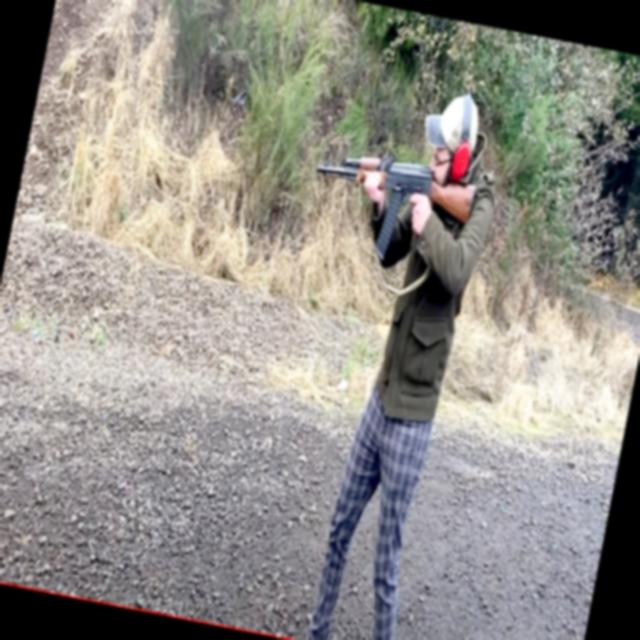ak: (291, 124, 490, 293)
